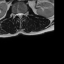CCS_normal: (19, 11, 21, 19)
LFS_normal: (23, 11, 25, 17)
LLS_normal: (21, 11, 23, 17)
RFS_normal: (14, 11, 16, 18)
RLS_normal: (16, 11, 19, 18)
